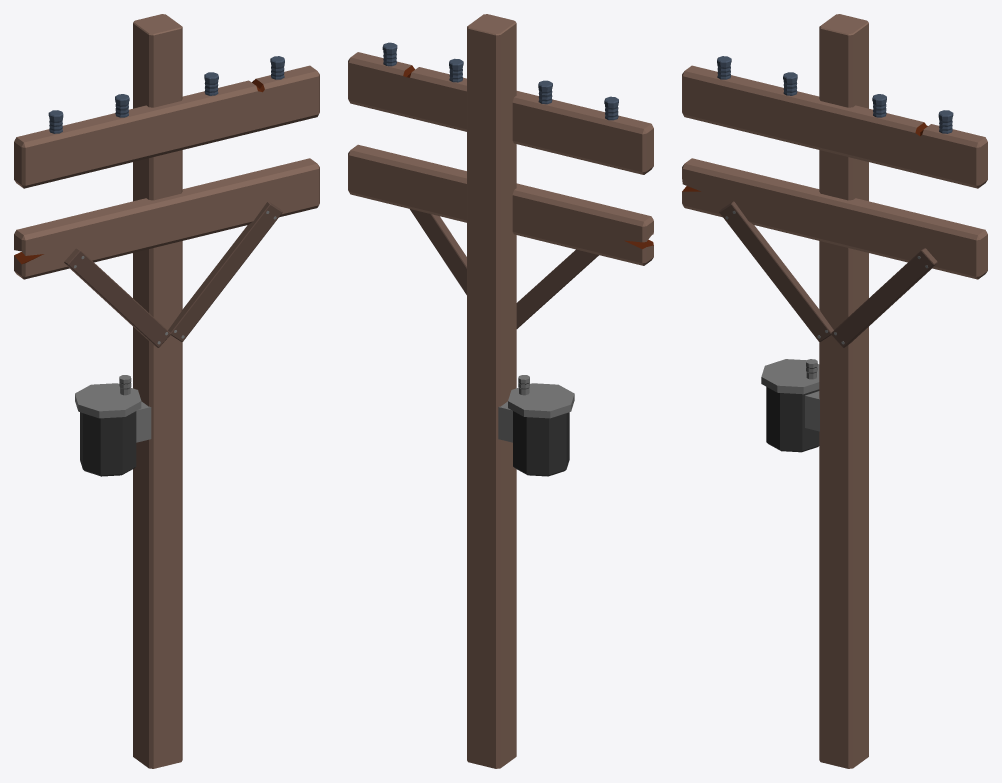
The model's file is SM_Powerline1.glb.
The picture shows the model from 3 angles, left to right: view 1: azimuth 30°, elevation 25°; view 2: azimuth 150°, elevation 25°; view 3: azimuth 330°, elevation 25°; orthographic projection.
Parts seen in each view (by area): view 1: M.Powerline1; view 2: M.Powerline1; view 3: M.Powerline1.
Boxes of the visible parts, bbox=[...] form: M.Powerline1: bbox=[14, 14, 319, 768]; M.Powerline1: bbox=[348, 14, 653, 768]; M.Powerline1: bbox=[682, 14, 987, 768].
Bounding box in the file's own units: 6.55 × 15.4 × 1.33.
1 material, 1 textured.
